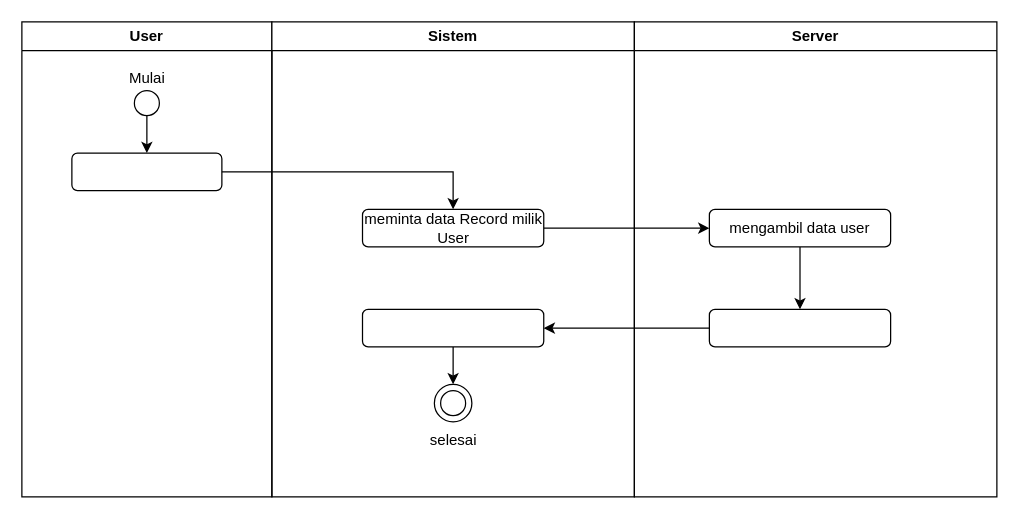
Some shapes in this 1019 by 519 pixel diagram are drawn without their labels. The shapes that lost their labels are listed below. From the top down, each one's centre as x and y in pixels, then its label:
At point 146,171: "Mengklik tombol History Record".
At point 452,327: "Menampilkan data record dan laman record history".
At point 799,327: "mengirm data record".
